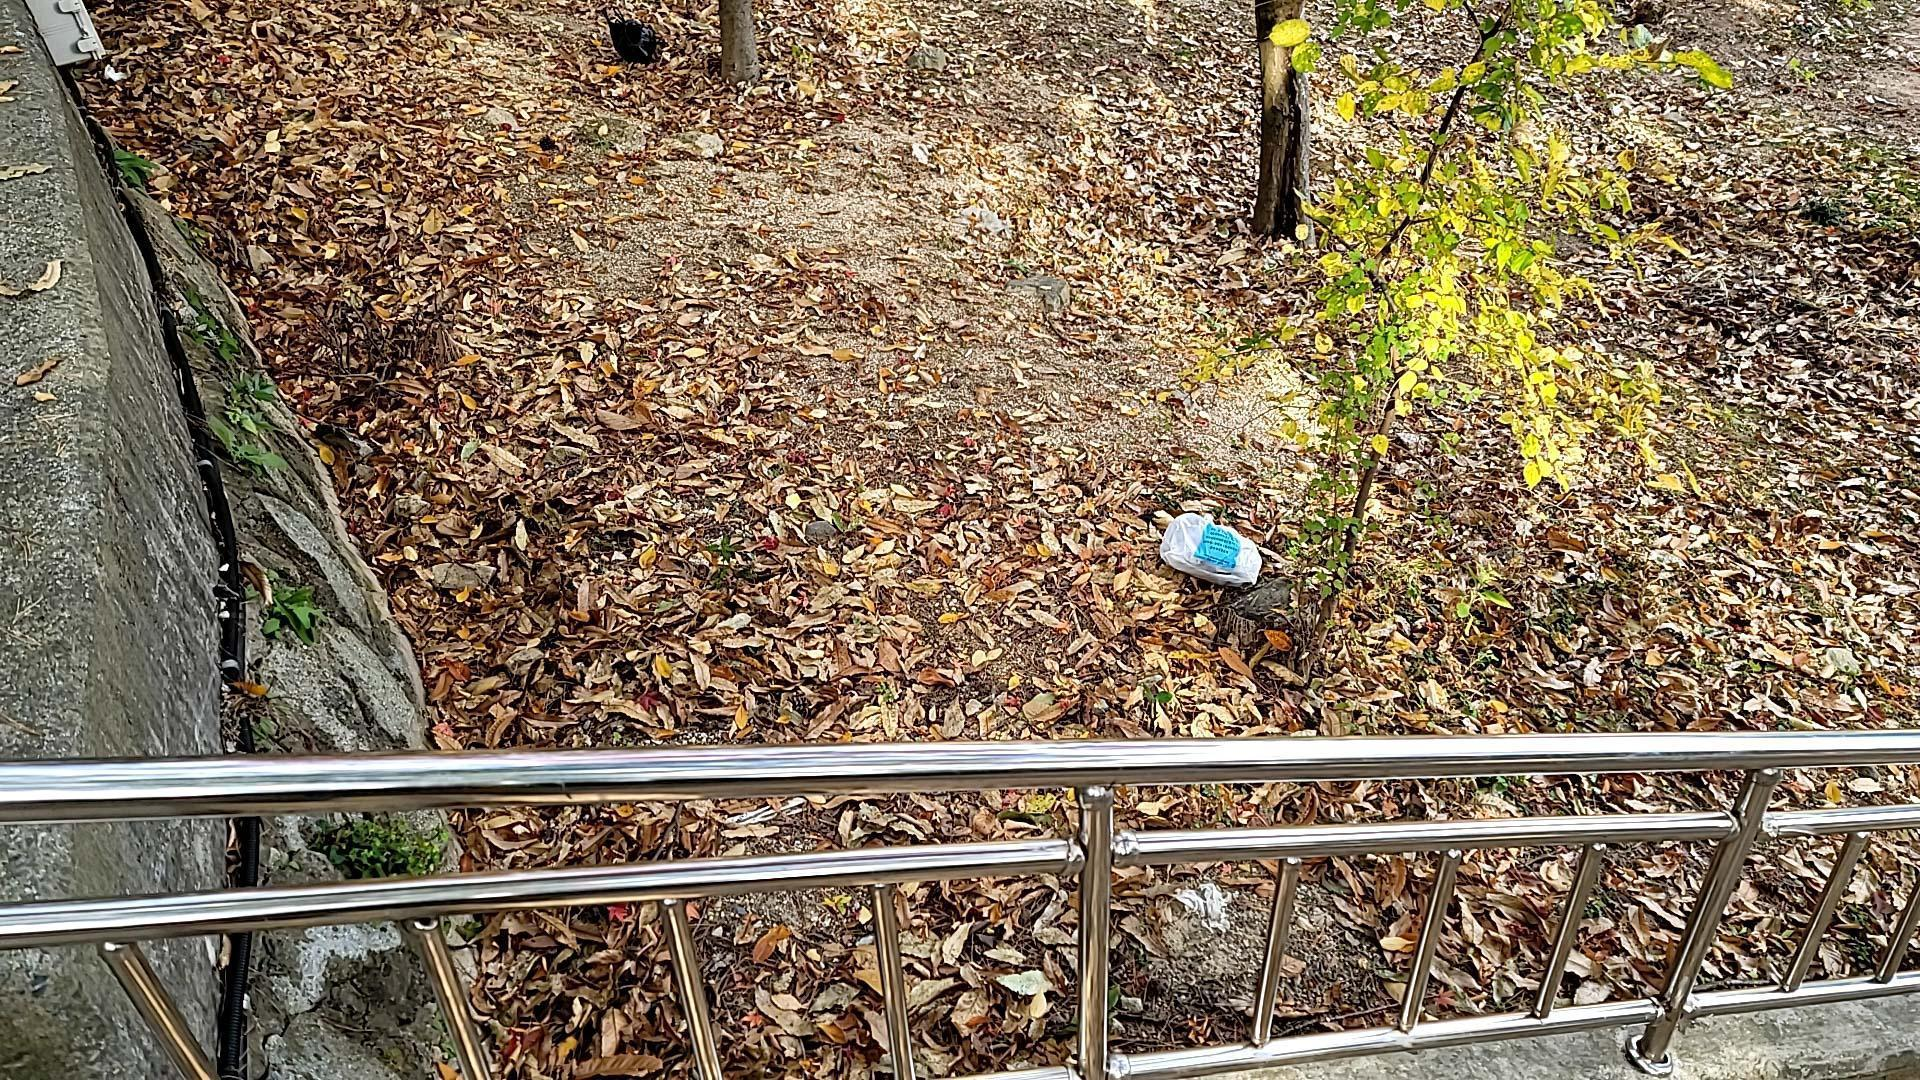white_bag: (1156, 506, 1265, 589)
